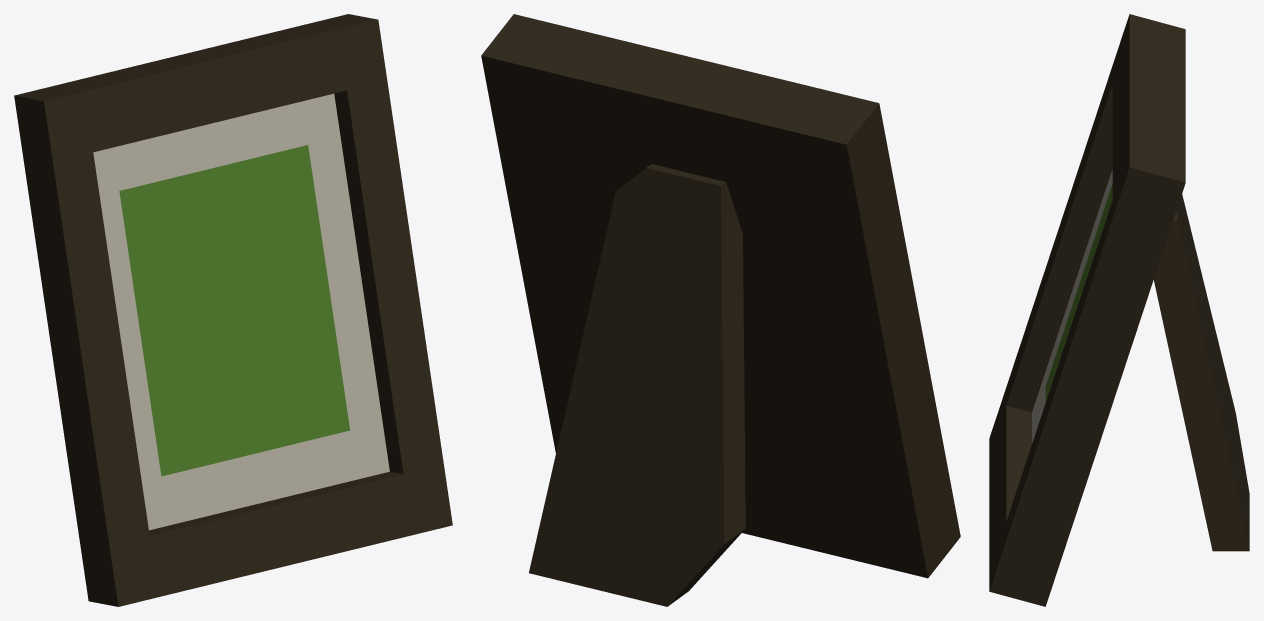
The model's file is PictureFrame.fbx.
The picture shows the model from 3 angles, left to right: view 1: azimuth 30°, elevation 25°; view 2: azimuth 150°, elevation 25°; view 3: azimuth 270°, elevation 25°; orthographic projection. The views are drawn at different scales.
Parts seen in each view (by area): view 1: PictureFrame; view 2: PictureFrame; view 3: PictureFrame.
Boxes of the visible parts, <box> form: PictureFrame: <box>14,14,452,606</box>; PictureFrame: <box>481,14,960,606</box>; PictureFrame: <box>989,14,1249,606</box>.
Size of the model in its own units: 30.55 by 40.81 by 21.88.
